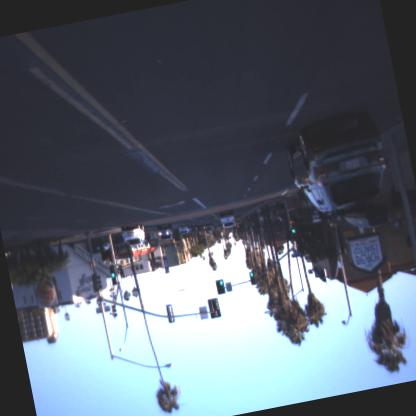trafficlight: (214, 278, 226, 294), (109, 265, 118, 285), (247, 270, 256, 285), (290, 226, 298, 242)
